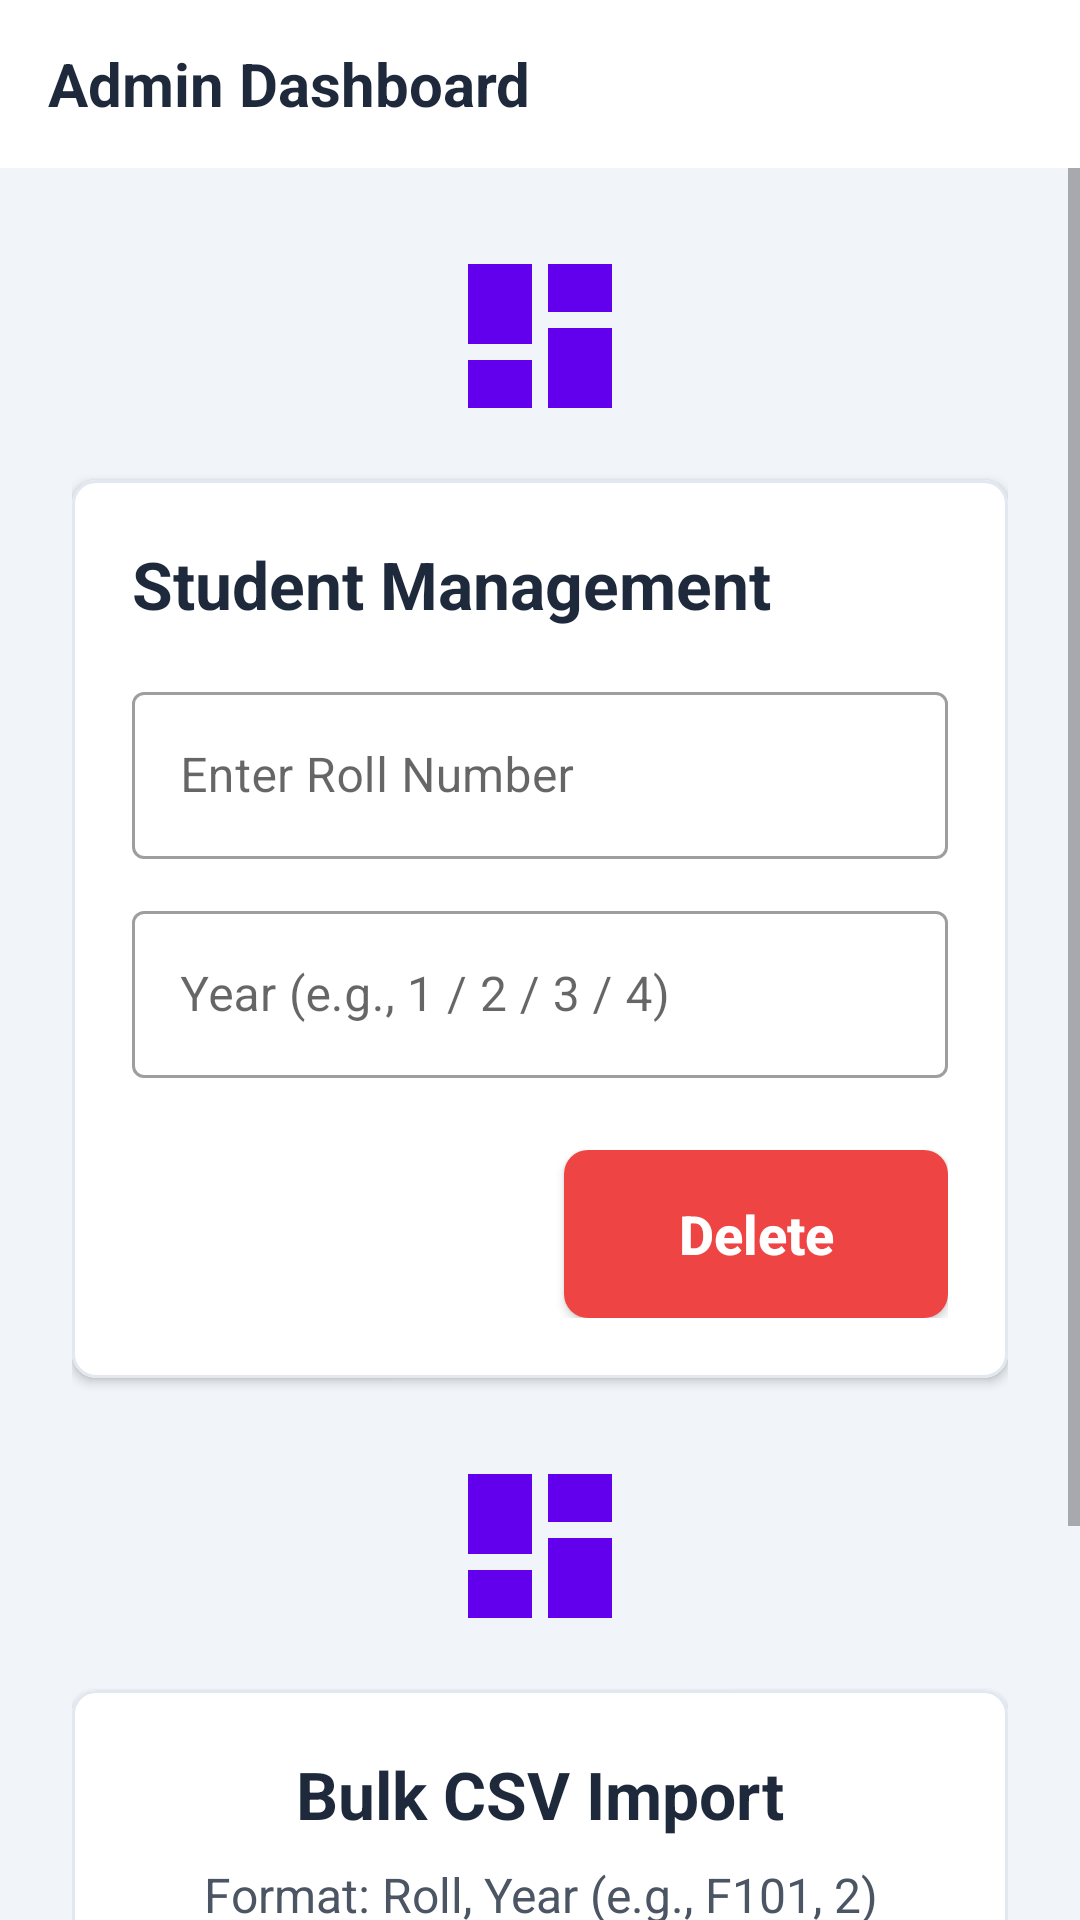

Named icons in this screenshot (1080w x 1920h) and their bounding boxes, (x1, y1, x2, y2):
dashboard pro: (468, 264, 612, 408), (468, 1474, 612, 1618)
